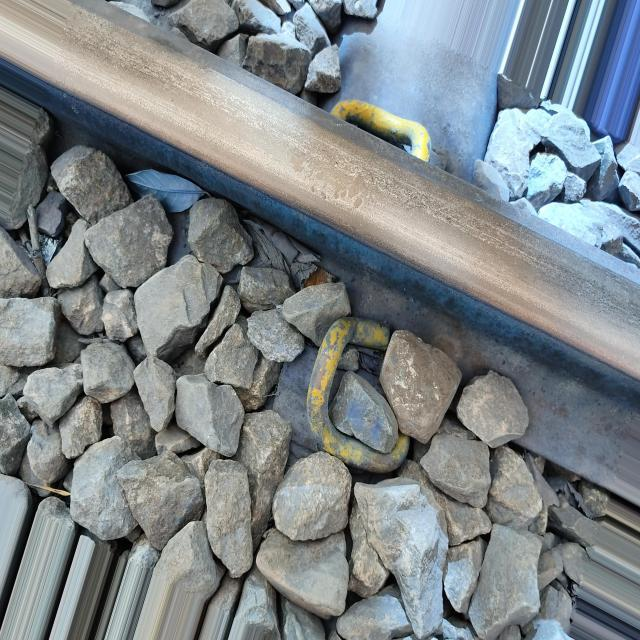Good Fasteners: (262, 286, 424, 511), (332, 100, 431, 162)
